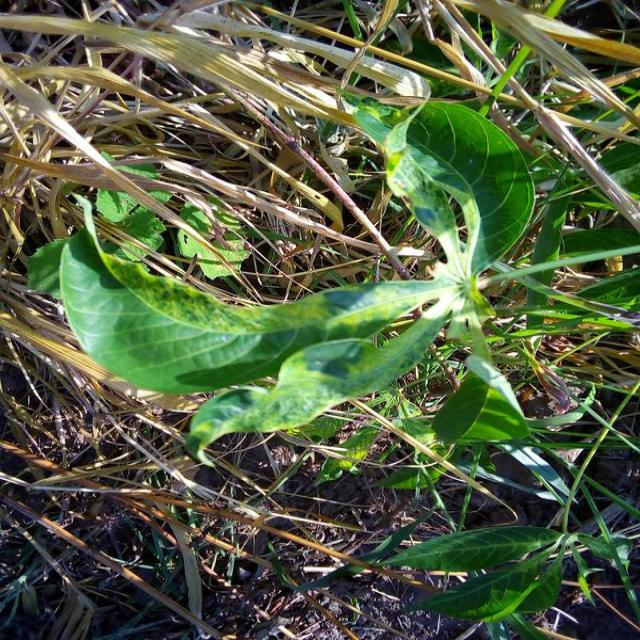cassava leaf: (42, 92, 540, 463), (54, 215, 449, 396), (351, 94, 535, 279)
